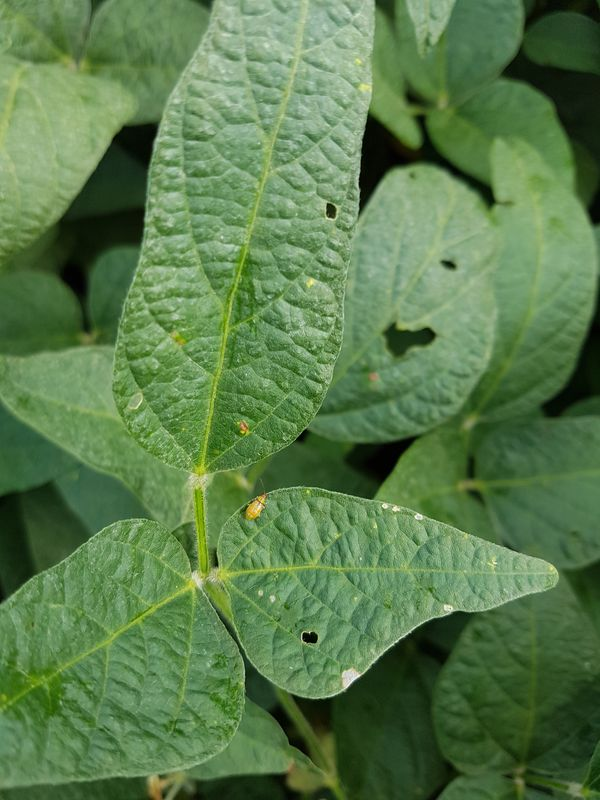Diabrotica_speciosa: (237, 477, 280, 528)
